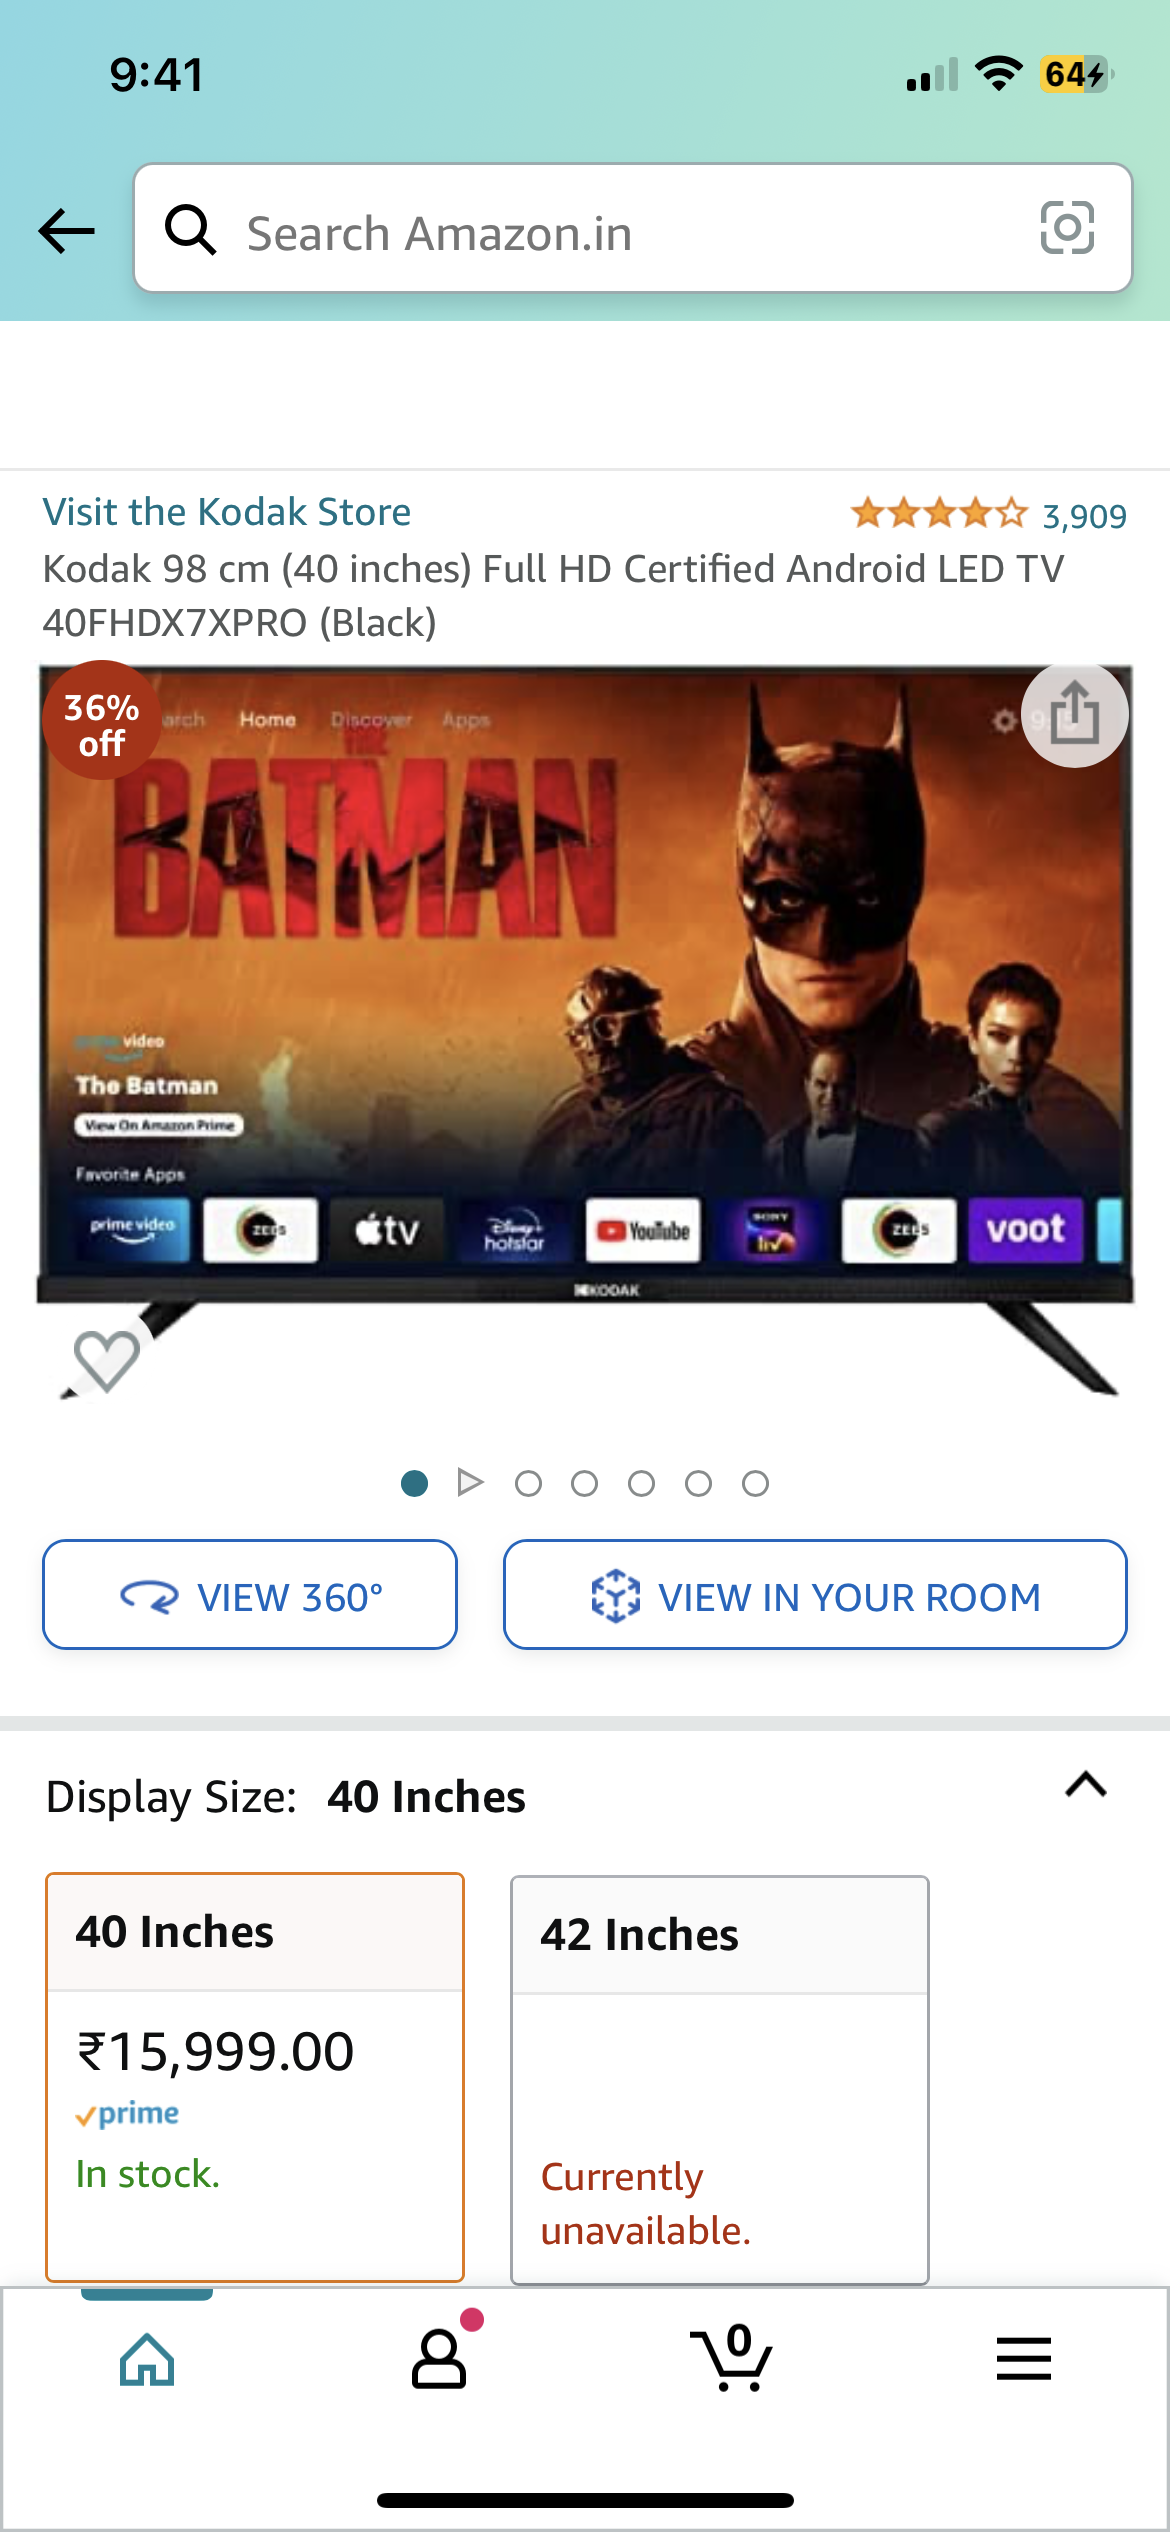LEDTV: (29, 648, 1162, 1418)
